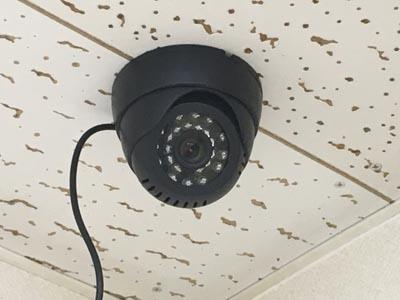maru: (106, 36, 269, 208)
